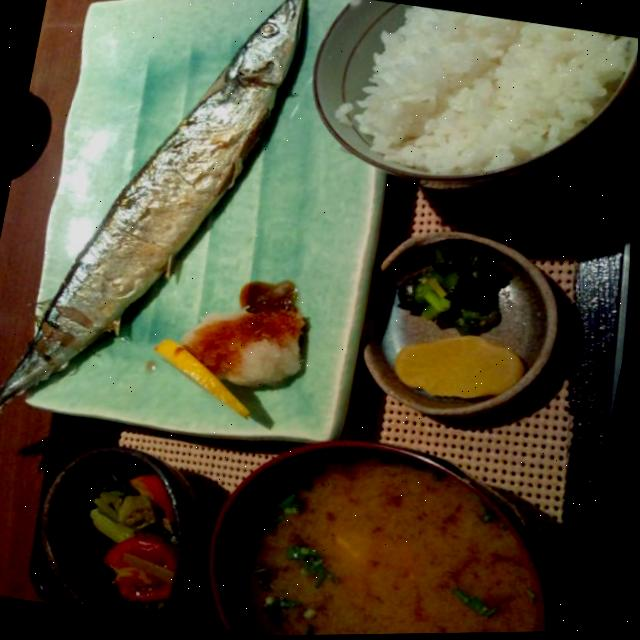米饭主食: (335, 0, 640, 198)
